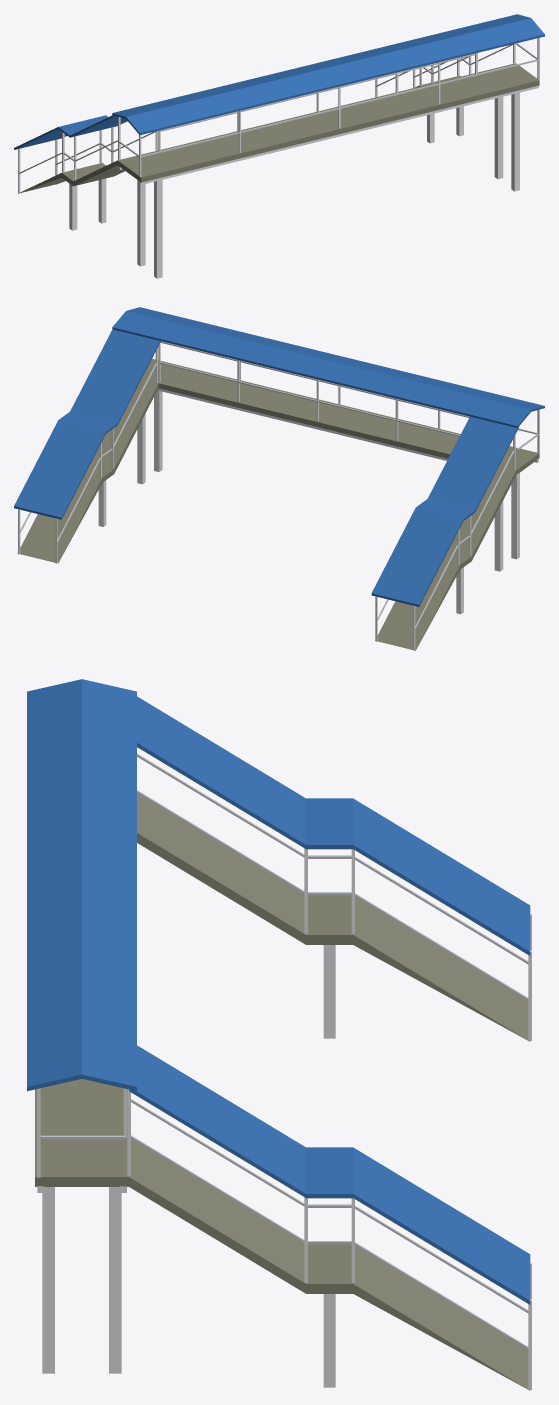
Rendered from 111_far.fbx.
The picture shows the model from 3 angles, top to bottom: view 1: azimuth 30°, elevation 25°; view 2: azimuth 150°, elevation 25°; view 3: azimuth 270°, elevation 25°; orthographic projection. The views are drawn at different scales.
Parts seen in each view (by area): view 1: Footbridge_111_far; view 2: Footbridge_111_far; view 3: Footbridge_111_far.
Part boxes in pixels (x1,y1,x2,y2): Footbridge_111_far: [14, 14, 544, 278]; Footbridge_111_far: [14, 307, 544, 650]; Footbridge_111_far: [27, 679, 531, 1390].
Bounding box in the file's own units: 23.8 × 8.97 × 12.84.
